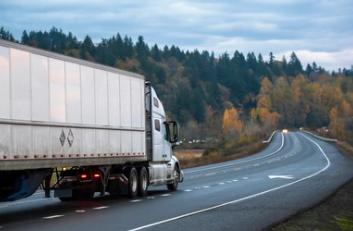vehicle: (0, 38, 183, 203)
